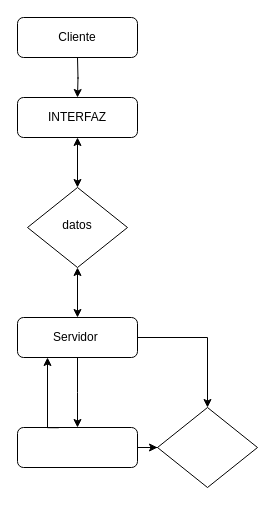
Some shapes in this 275 by 505 pixel diagram are drawn without their labels. The centre of each missing label's shape, as x and y in pixels:
"Logs" belongs at point 207,447.
"Reconoce la comida (celery)" belongs at point 77,447.
